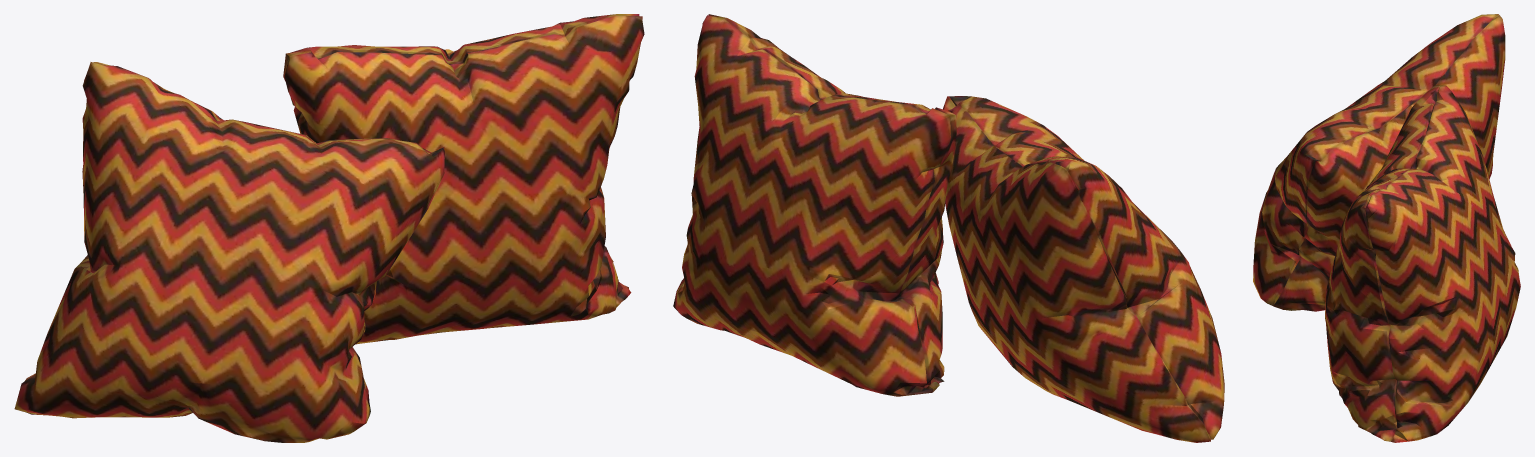
Rendered from throw-pillows.glb.
3 renders of one model, left to right at view 1: azimuth 30°, elevation 25°; view 2: azimuth 150°, elevation 25°; view 3: azimuth 270°, elevation 25°, orthographic. The views are drawn at different scales.
Visible parts, largest first — view 1: throw-pillows; view 2: throw-pillows; view 3: throw-pillows.
Boxes of the visible parts, x1,y1,x2,y2 form: throw-pillows: [14, 14, 644, 442]; throw-pillows: [673, 14, 1224, 442]; throw-pillows: [1253, 14, 1520, 442].
Bounding box in the file's own units: 0.9399 × 0.45 × 0.4519.
Materials: 1 (1 with a texture image).
